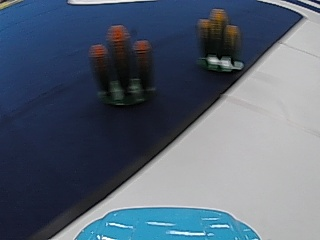corn: (89, 21, 153, 114), (196, 5, 242, 75)
